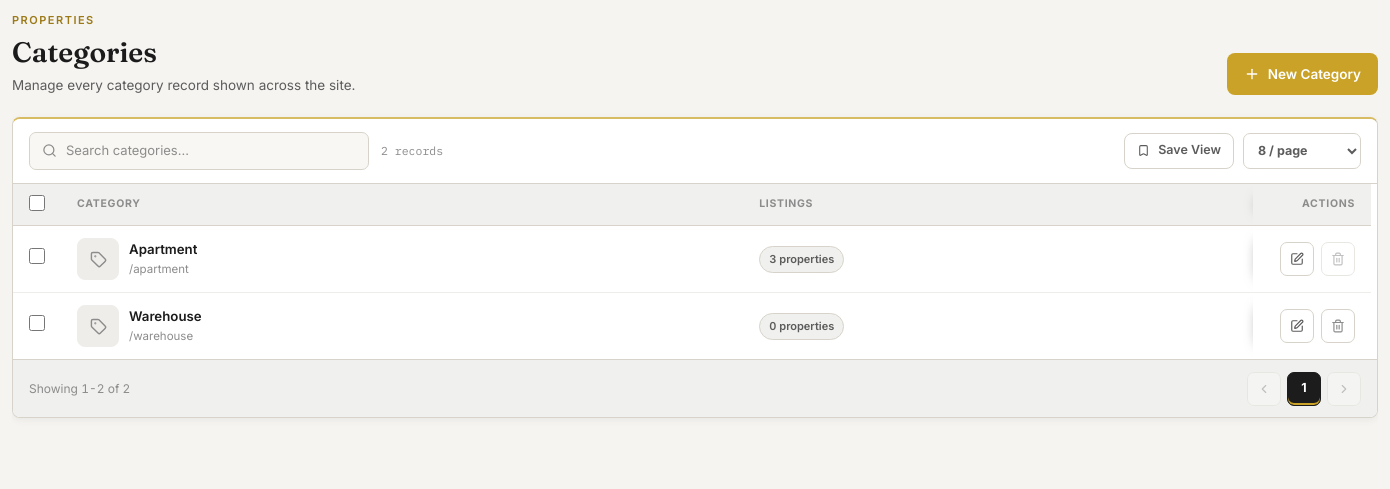
LookupManager › blocks bulk deletion when the category selection includes a referenced record
This screenshot has width=1390, height=489.
Expected: the text "Apartment" is shown, [129,240,197,260]
Click the checkbox named "Select Apartment" at (37, 256), box [29,248,45,264]
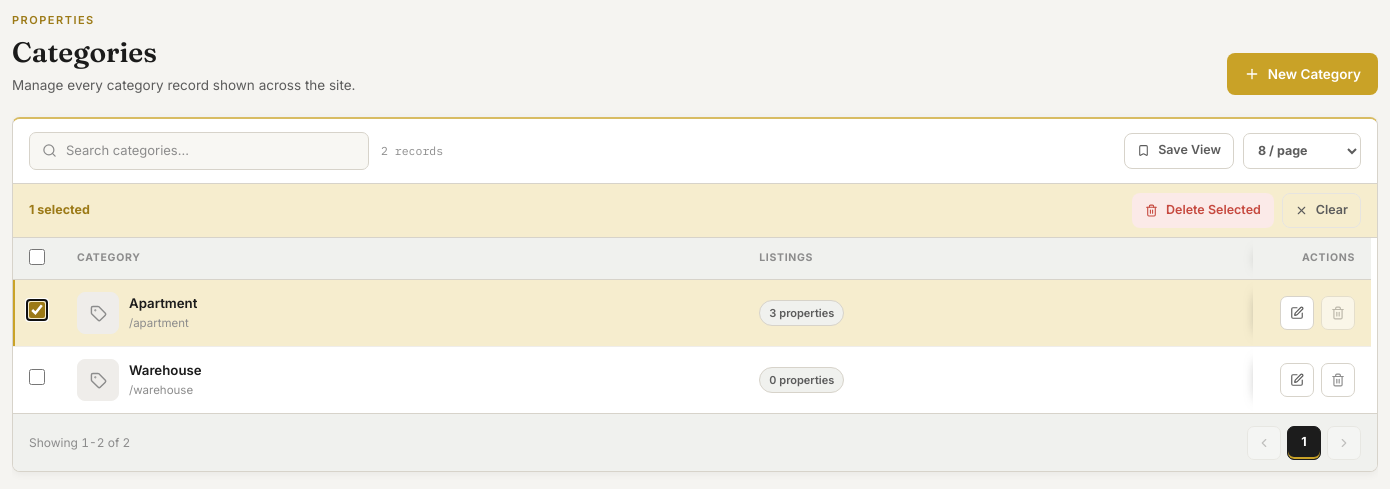
Click the checkbox named "Select Warehouse" at (37, 377), box [29,369,45,385]
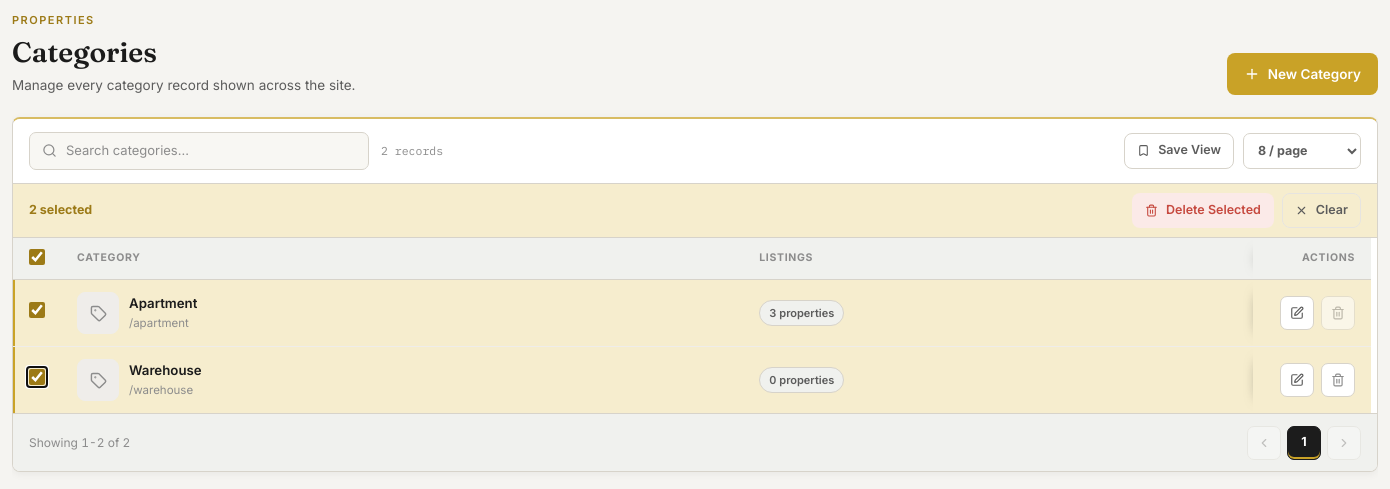
Click the button "Delete Selected" at (1203, 210), box [1132,193,1274,228]
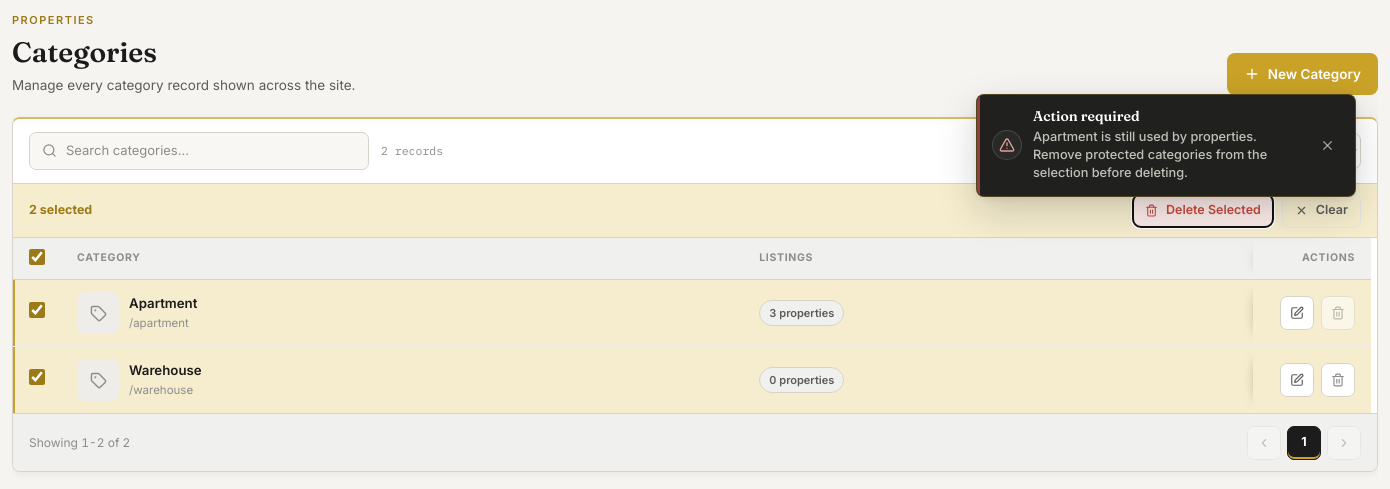
Expected: the message shows "Apartment is still used by properties.", [1033,128,1267,180]
